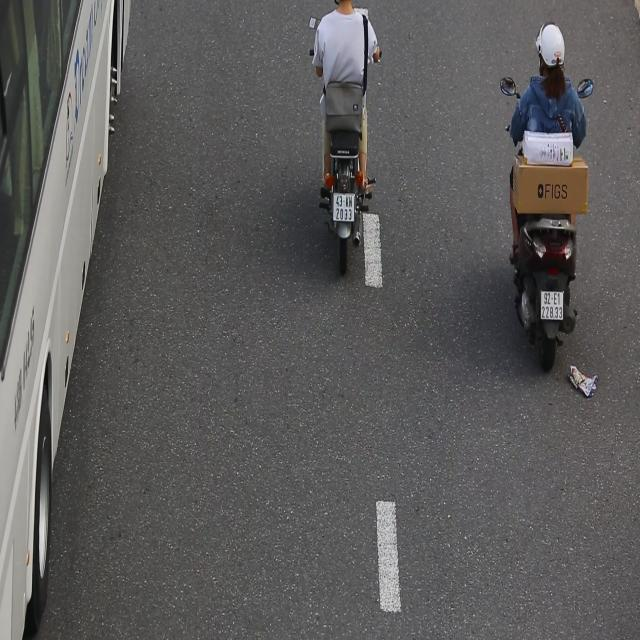motorbike: (499, 18, 598, 378)
